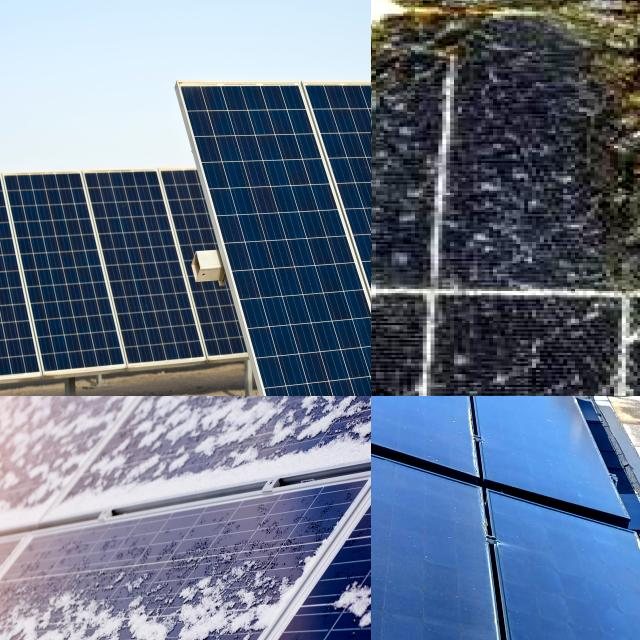crack: (175, 89, 371, 396), (72, 158, 215, 396), (0, 167, 135, 396), (291, 74, 371, 396), (0, 185, 62, 396)
dust: (371, 481, 464, 640), (523, 534, 640, 640)
panel: (92, 396, 194, 501), (0, 396, 59, 557), (0, 396, 73, 523), (223, 396, 297, 486), (91, 578, 184, 640), (0, 438, 43, 570), (298, 396, 371, 466), (193, 556, 251, 640), (0, 583, 76, 640), (260, 556, 314, 631), (322, 578, 371, 640), (203, 396, 224, 468)
shadow: (371, 35, 640, 346), (371, 0, 640, 87)
